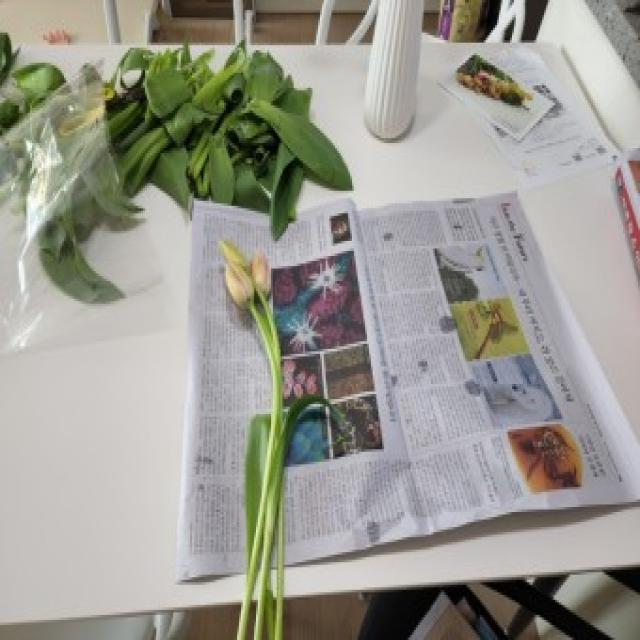Newspaper: (272, 189, 638, 560)
